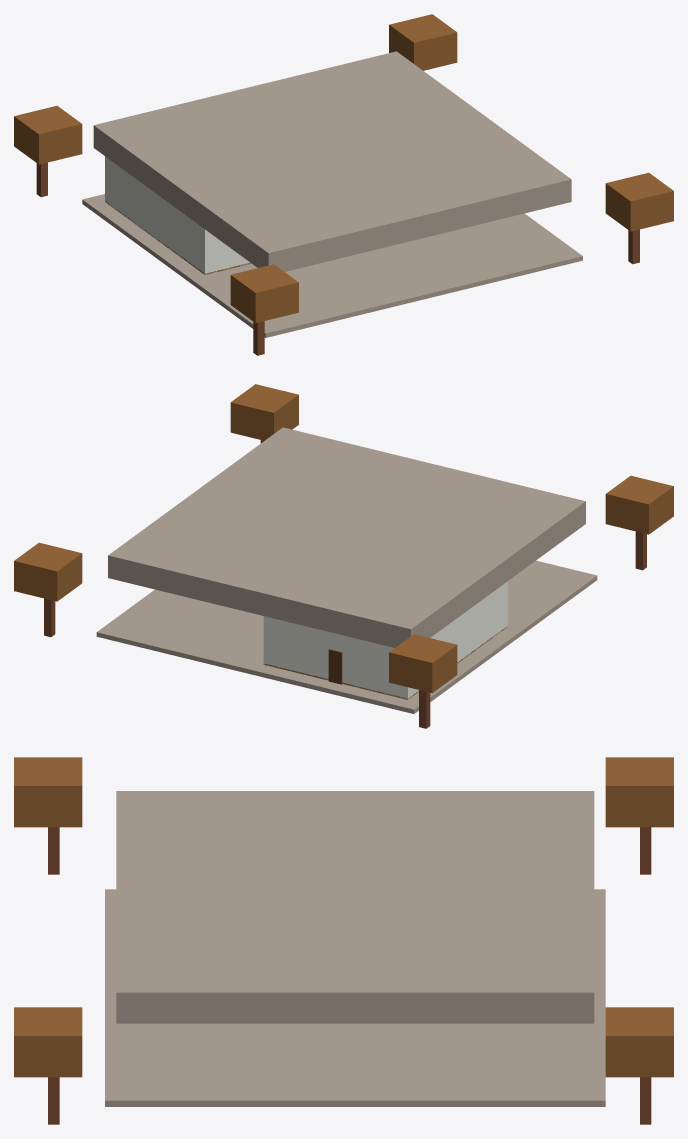
The model's file is enhanced_boq_fallback_1751771262770_jnye05iop.obj.
3 renders of one model, top to bottom at view 1: azimuth 30°, elevation 25°; view 2: azimuth 150°, elevation 25°; view 3: azimuth 270°, elevation 25°, orthographic. The views are drawn at different scales.
Parts seen in each view (by area): view 1: Roof, Foundation, Wall_Left_0, TreeFoliage_0, TreeFoliage_2, TreeFoliage_3, TreeFoliage_1, Wall_Back_0; view 2: Roof, Foundation, Wall_Front_0, TreeFoliage_2, TreeFoliage_0, TreeFoliage_1, TreeFoliage_3, Wall_Left_0; view 3: Roof, Foundation, TreeFoliage_0, TreeFoliage_1, TreeFoliage_2, TreeFoliage_3, TreeTrunk_0, TreeTrunk_1, TreeTrunk_2, TreeTrunk_3.
Part boxes in pixels (left/top/right/bottom): Roof: left=93, top=51, right=571, bottom=271; Foundation: left=82, top=194, right=582, bottom=337; Wall_Left_0: left=105, top=157, right=207, bottom=273; TreeFoliage_0: left=14, top=105, right=82, bottom=164; TreeFoliage_2: left=230, top=264, right=298, bottom=323; TreeFoliage_3: left=605, top=172, right=673, bottom=231; TreeFoliage_1: left=389, top=14, right=457, bottom=70; Wall_Back_0: left=203, top=228, right=250, bottom=274; Roof: left=108, top=427, right=585, bottom=647; Foundation: left=96, top=560, right=597, bottom=713; Wall_Front_0: left=263, top=616, right=409, bottom=699; TreeFoliage_2: left=605, top=475, right=673, bottom=534; TreeFoliage_0: left=389, top=634, right=457, bottom=692; TreeFoliage_1: left=14, top=542, right=82, bottom=601; TreeFoliage_3: left=230, top=384, right=298, bottom=440; Wall_Left_0: left=405, top=582, right=507, bottom=699; Roof: left=116, top=791, right=594, bottom=1023; Foundation: left=105, top=889, right=605, bottom=1106; TreeFoliage_0: left=605, top=757, right=673, bottom=827; TreeFoliage_1: left=605, top=1007, right=673, bottom=1077; TreeFoliage_2: left=14, top=757, right=82, bottom=827; TreeFoliage_3: left=14, top=1007, right=82, bottom=1077; TreeTrunk_0: left=640, top=827, right=651, bottom=874; TreeTrunk_1: left=640, top=1077, right=651, bottom=1124; TreeTrunk_2: left=48, top=827, right=59, bottom=874; TreeTrunk_3: left=48, top=1077, right=59, bottom=1124.
Bounding box in the file's own units: 29 × 5.3 × 29.
